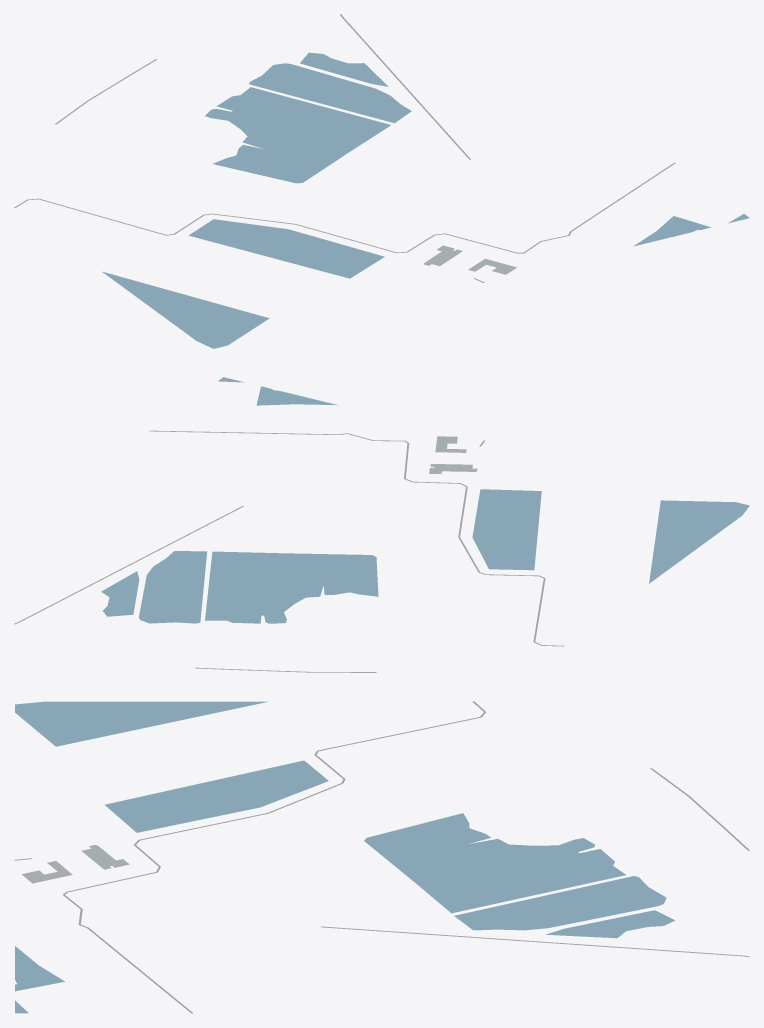
Rendered from -26_14-known-fine.glb.
3 views of the same model, one above another, from view 1: azimuth 30°, elevation 25°; view 2: azimuth 150°, elevation 25°; view 3: azimuth 270°, elevation 25° (orthographic). The views are drawn at different scales.
Size of the model in its own units: 1002 by 0.15 by 998.
